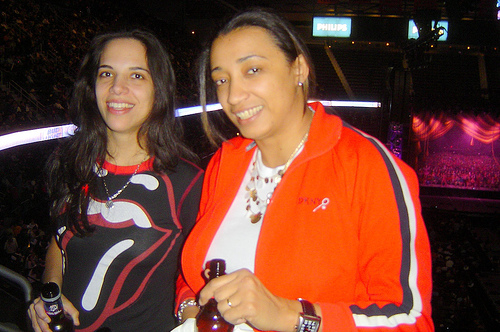without_mask: (195, 19, 323, 151), (76, 26, 174, 151)
